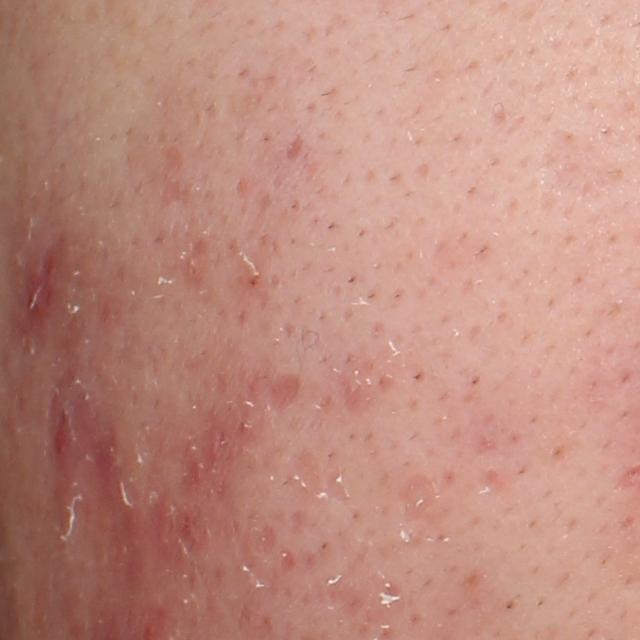atrophic_scar: (177, 236, 216, 307), (396, 472, 438, 527), (271, 372, 299, 417), (287, 131, 307, 164)
